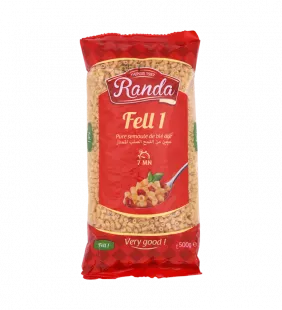RANDA: (70, 20, 212, 284)
